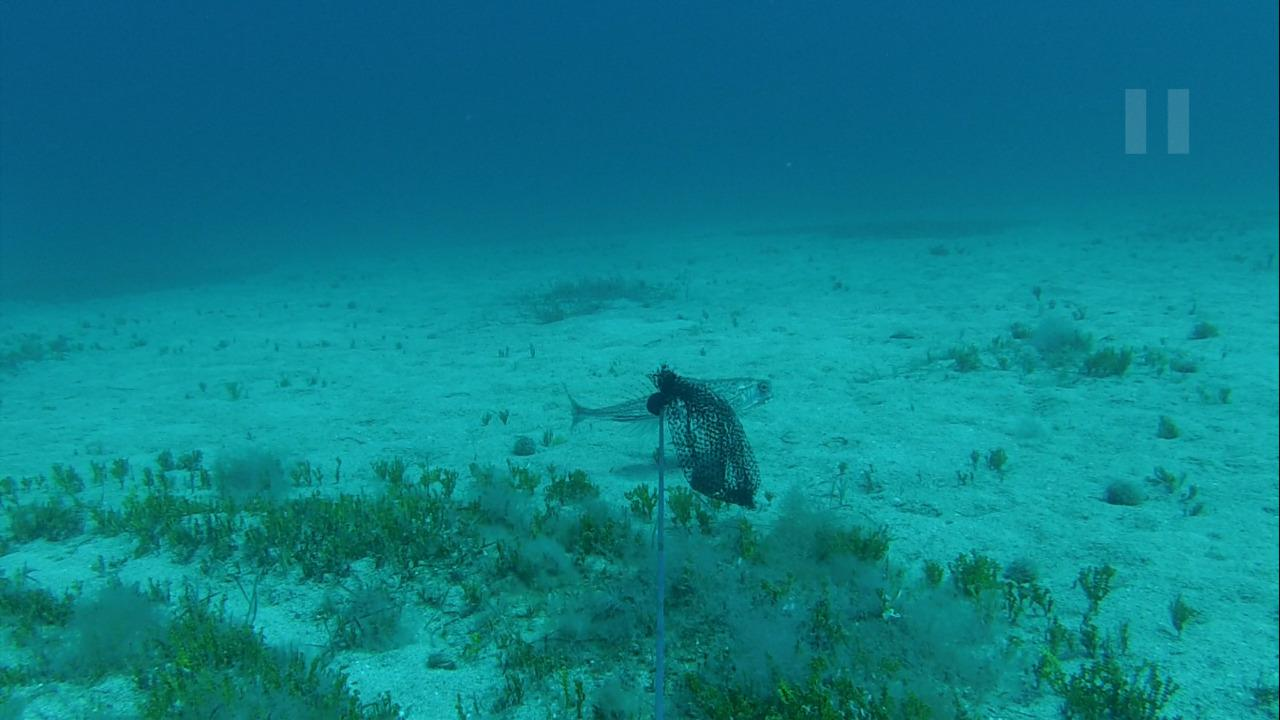dactylopterus: (552, 368, 777, 436)
